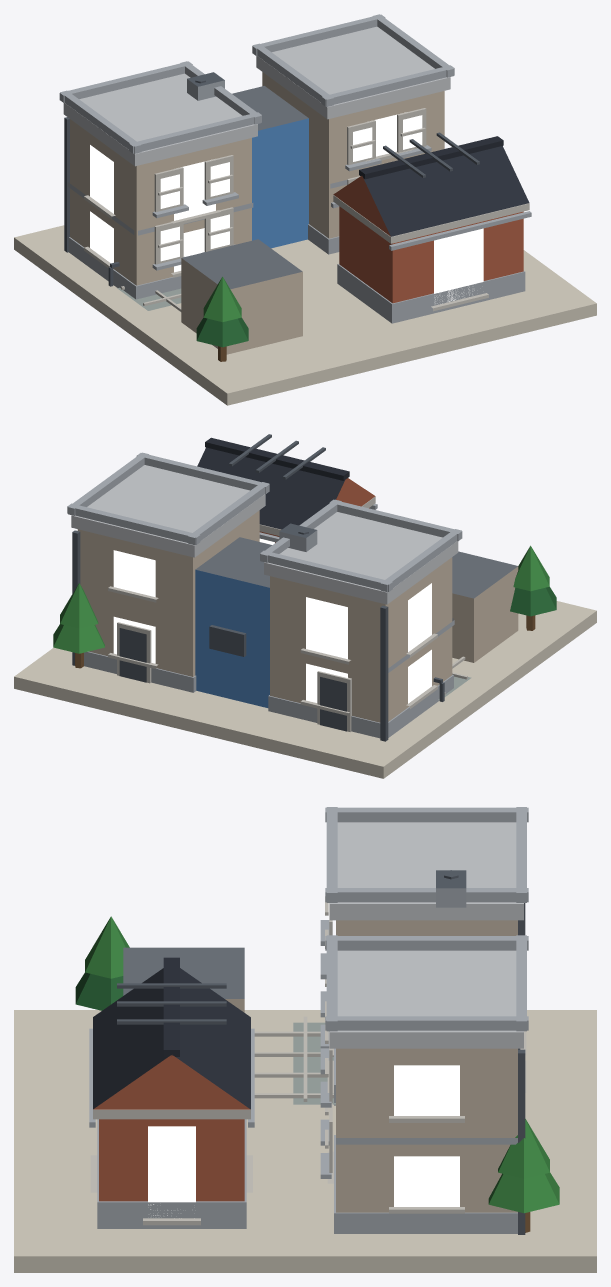
3 renders of one model, top to bottom at view 1: azimuth 30°, elevation 25°; view 2: azimuth 150°, elevation 25°; view 3: azimuth 270°, elevation 25°, orthographic. The views are drawn at different scales.
Visible parts, largest first — view 1: b29; view 2: b29; view 3: b29.
Part boxes in pixels (x1,y1,x2,y2): b29: [14, 14, 596, 405]; b29: [14, 434, 596, 778]; b29: [14, 807, 596, 1272].
Bounding box in the file's own units: 0.96 × 0.439 × 0.96.
